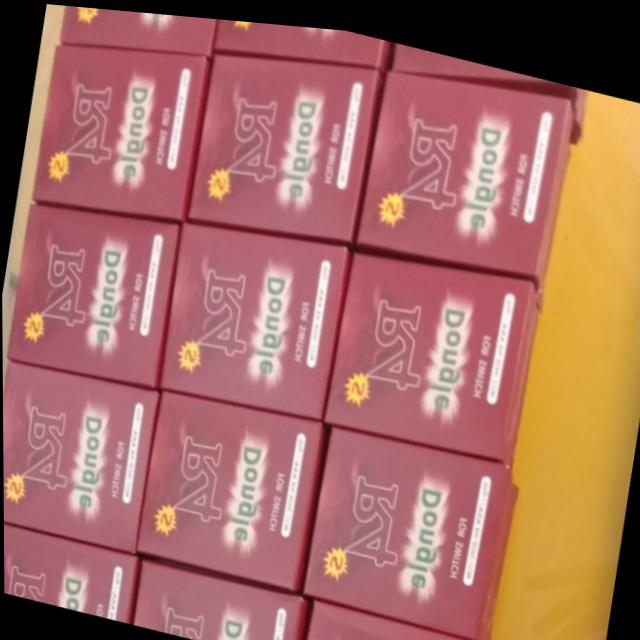box: (323, 245, 542, 462), (356, 65, 572, 283), (302, 421, 517, 636), (135, 388, 332, 593), (158, 219, 354, 416), (187, 49, 386, 240), (6, 201, 180, 387), (33, 43, 209, 219), (2, 361, 158, 552), (390, 38, 587, 133), (131, 559, 304, 640), (3, 524, 139, 620), (299, 592, 495, 640), (213, 15, 394, 61), (59, 4, 216, 48)
